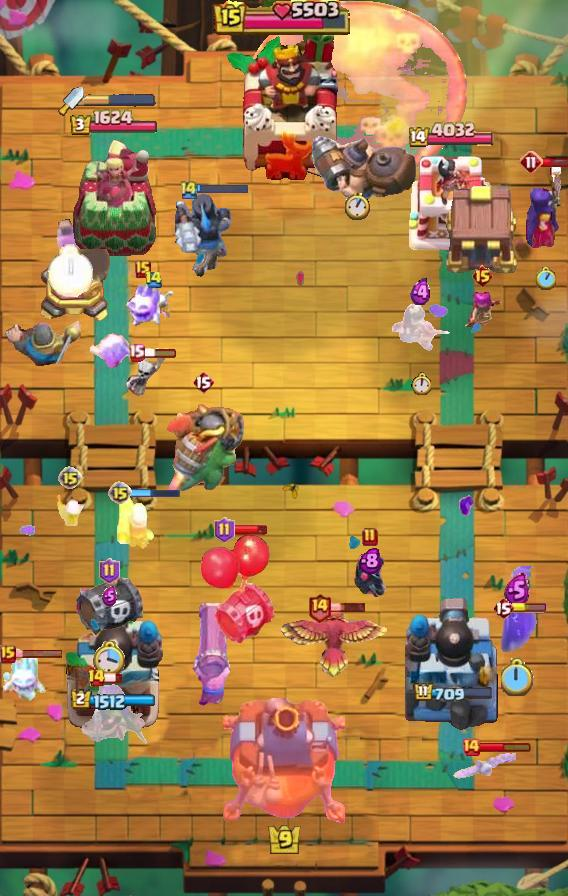axe: (522, 162, 568, 250)
bar: (70, 138, 158, 256)
barbarian: (452, 749, 516, 781)
barbarian-hut: (67, 680, 153, 752)
bat: (0, 654, 48, 702)
battle-healer: (190, 603, 236, 707)
battle-ram: (351, 552, 389, 602)
bomb: (440, 182, 520, 276)
cannon: (462, 291, 502, 331)
clock: (214, 0, 354, 36)
electro-spirit: (504, 573, 530, 607), (358, 546, 381, 574), (410, 278, 432, 307), (103, 586, 117, 606)
elixir: (47, 243, 93, 296), (93, 641, 127, 679), (501, 658, 535, 696), (346, 192, 371, 220), (536, 266, 557, 290), (411, 372, 431, 395)
emote: (479, 741, 532, 753), (197, 183, 249, 195), (129, 487, 181, 499), (12, 649, 64, 660), (329, 601, 367, 613), (142, 347, 178, 359), (232, 524, 268, 536), (511, 603, 547, 613), (540, 157, 567, 168), (103, 672, 123, 684)
firecracker: (0, 320, 86, 372)
golden-knight: (279, 603, 391, 681)
heal-spirit: (125, 349, 167, 401), (129, 290, 177, 322), (55, 494, 85, 526)
inferno-dragon: (172, 191, 232, 281)
king-tower: (224, 23, 344, 181), (223, 698, 345, 826)
king-tower-bar: (84, 93, 156, 107)
knight-evolution: (55, 218, 84, 258)
mirror: (123, 277, 163, 329), (86, 332, 136, 370)
night-witch: (161, 392, 245, 506)
phoenix-egg: (247, 0, 467, 179)
queen-tower: (407, 150, 499, 256)
royal-recruit: (35, 249, 113, 325)
royal-recruit-evolution: (199, 533, 279, 647), (72, 575, 146, 639)
selected: (409, 122, 497, 151), (69, 109, 159, 137), (71, 689, 157, 711), (414, 682, 495, 704)
skeleton-dragon: (390, 302, 452, 354)
spear-goblin: (497, 604, 537, 652)
text: (307, 592, 332, 623), (519, 150, 543, 174), (58, 466, 82, 490), (108, 481, 132, 505), (99, 558, 121, 584), (471, 264, 494, 288), (213, 517, 234, 543), (192, 370, 214, 394), (492, 596, 514, 620), (179, 180, 199, 201), (86, 668, 106, 688), (461, 737, 481, 757), (145, 271, 164, 289), (362, 527, 378, 547), (128, 343, 145, 361), (135, 260, 151, 278), (0, 645, 16, 663)
tombstone: (115, 493, 157, 551)
tower-bar: (405, 595, 501, 731), (64, 601, 164, 731)
wizard: (308, 133, 420, 203)
